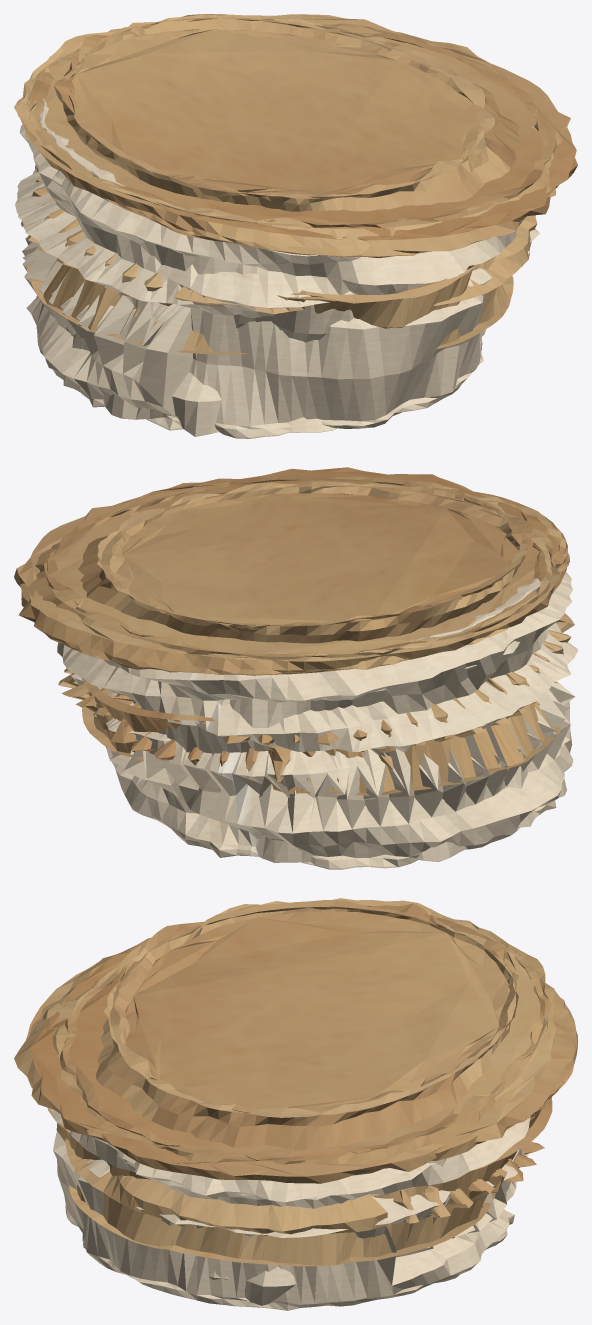
The model's file is crush_high_1.obj.
3 views of the same model, one above another, from view 1: azimuth 30°, elevation 25°; view 2: azimuth 150°, elevation 25°; view 3: azimuth 270°, elevation 25° (orthographic).
Parts seen in each view (by area): view 1: model; view 2: model; view 3: model.
Boxes of the visible parts, x1,y1,x2,y2 form: model: (14,14,577,438); model: (14,467,577,869); model: (14,898,577,1310).
Size of the model in its own units: 0.0697 by 0.034 by 0.0704.
1 material, 1 textured.
